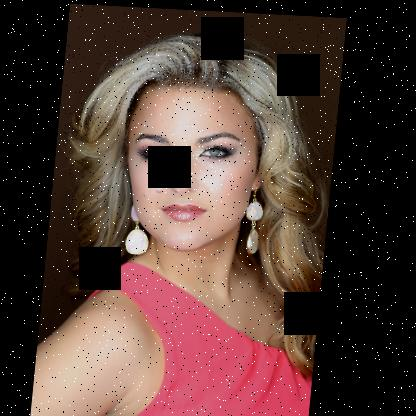Female: (122, 82, 276, 251)
